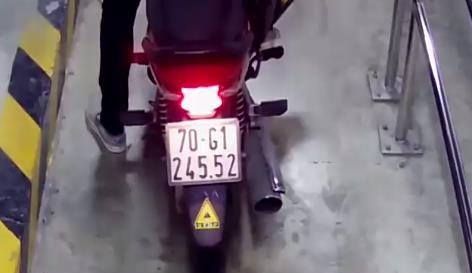lisence: (165, 118, 243, 184)
